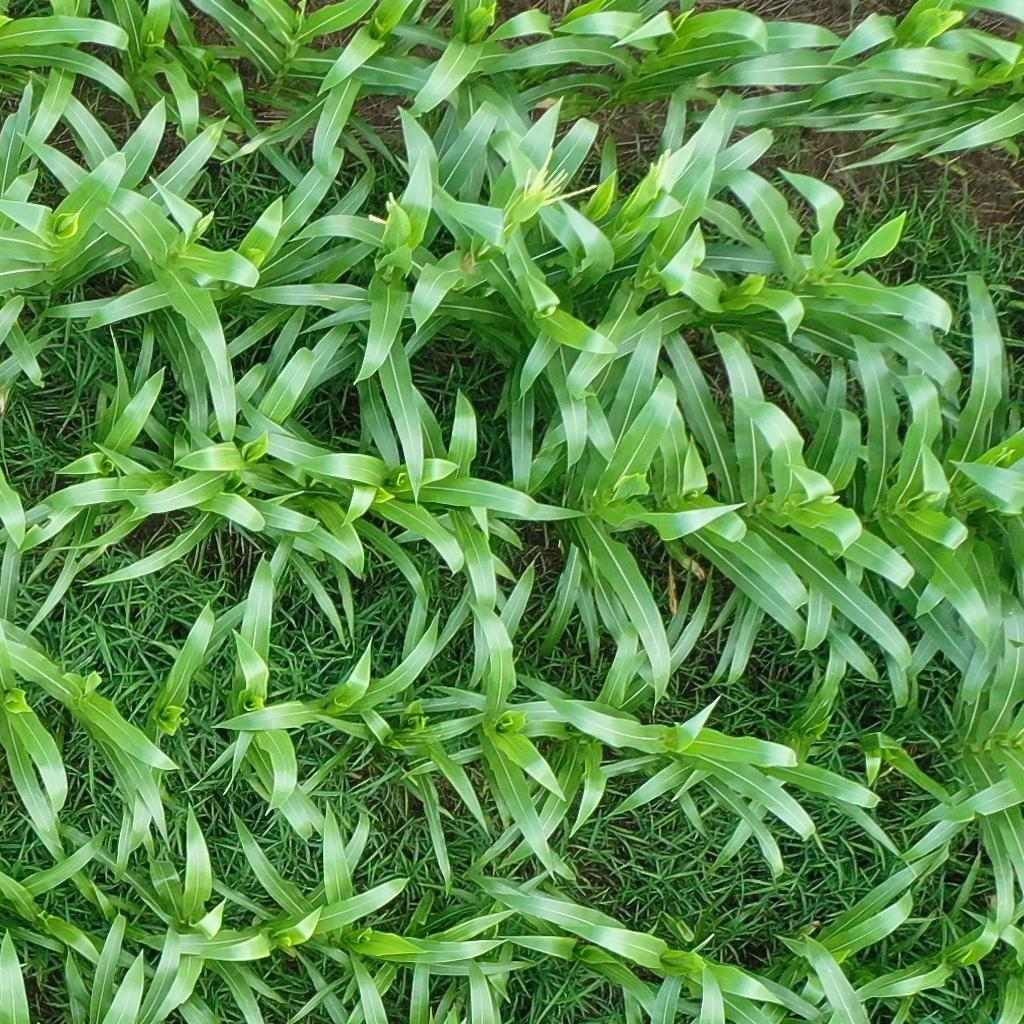Tassel: (525, 145, 599, 206), (645, 147, 673, 196), (369, 190, 401, 227), (192, 209, 216, 235), (60, 212, 81, 225)
